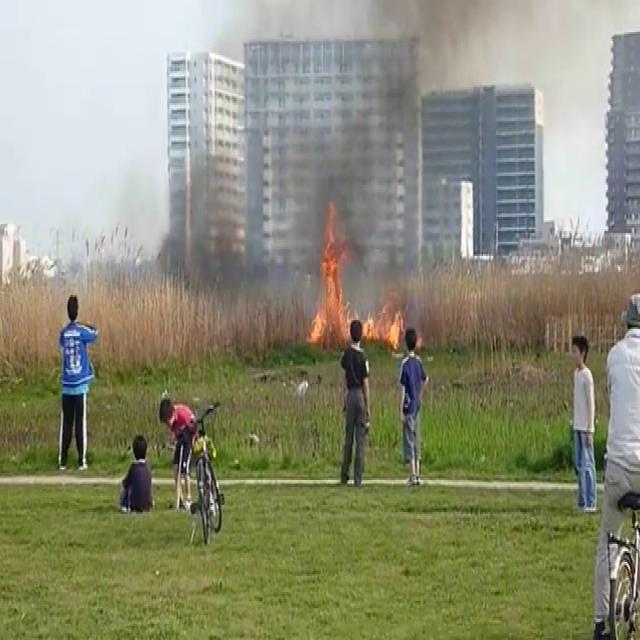Fire: (307, 196, 358, 332), (365, 294, 411, 350)
Smoke: (151, 0, 511, 289)
